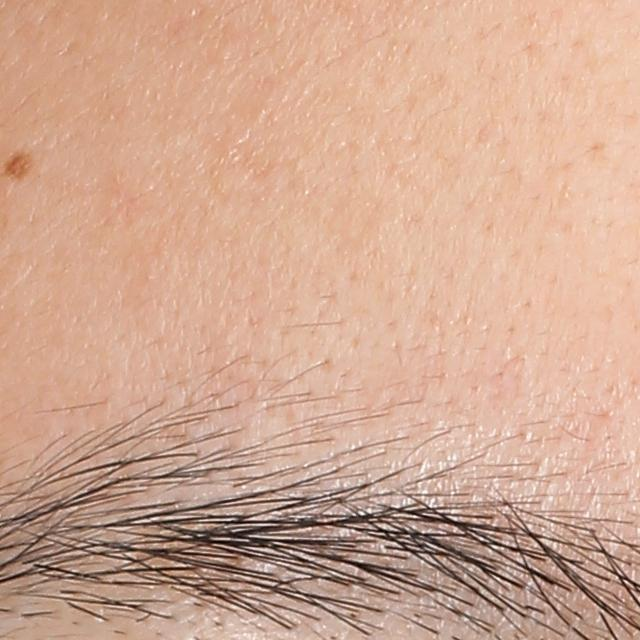nevus: (2, 153, 33, 181)
